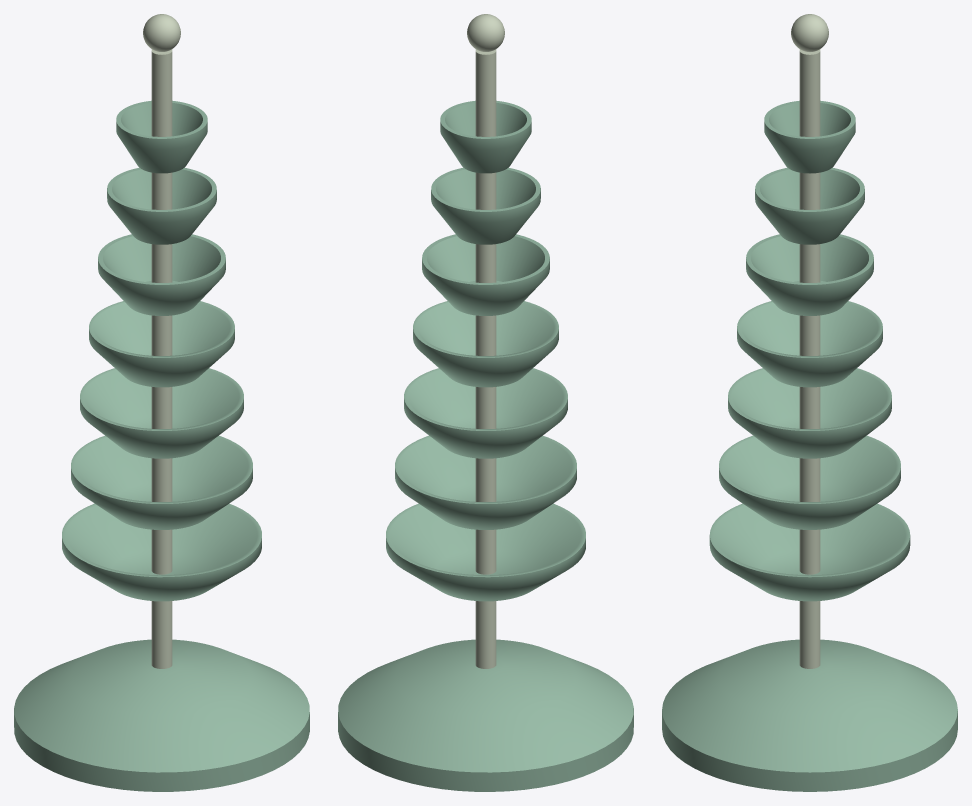
The model's file is enchanted-harp-garden-and-music-sanctuary-bell-tree-0c2ead7c__30418.glb.
The picture shows the model from 3 angles, left to right: view 1: azimuth 30°, elevation 25°; view 2: azimuth 150°, elevation 25°; view 3: azimuth 270°, elevation 25°; orthographic projection.
Parts seen in each view (by area): view 1: bell-tree; view 2: bell-tree; view 3: bell-tree.
Part boxes in pixels (x1,y1,x2,y2): bell-tree: (14,14,309,791); bell-tree: (338,14,633,791); bell-tree: (662,14,957,791).
Size of the model in its own units: 0.62 by 1.65 by 0.62.
